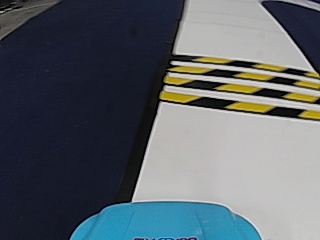bump: (180, 54, 303, 119)
